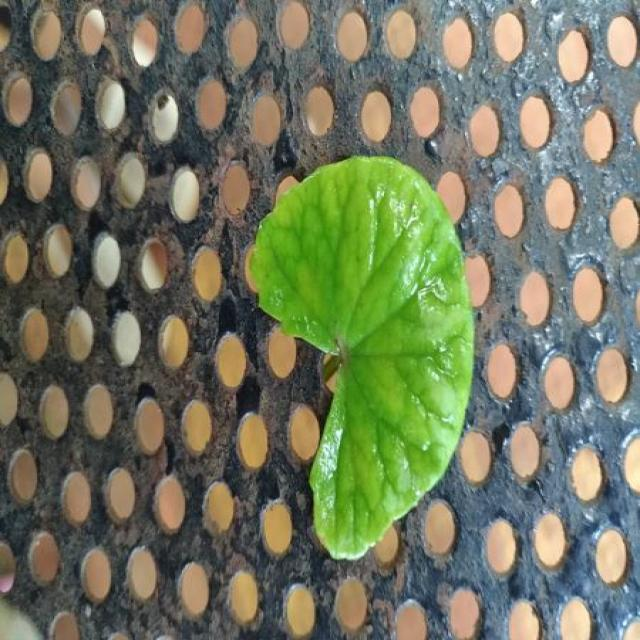bhrami: (252, 156, 473, 558)
